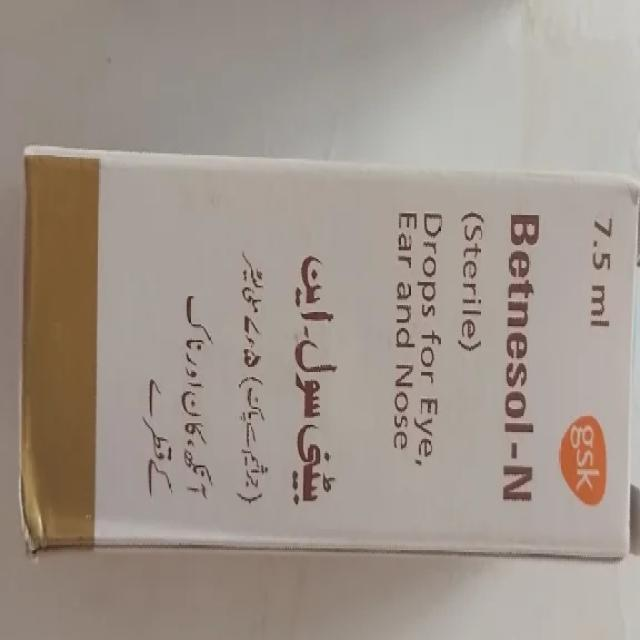drug-name: (499, 203, 544, 516)
